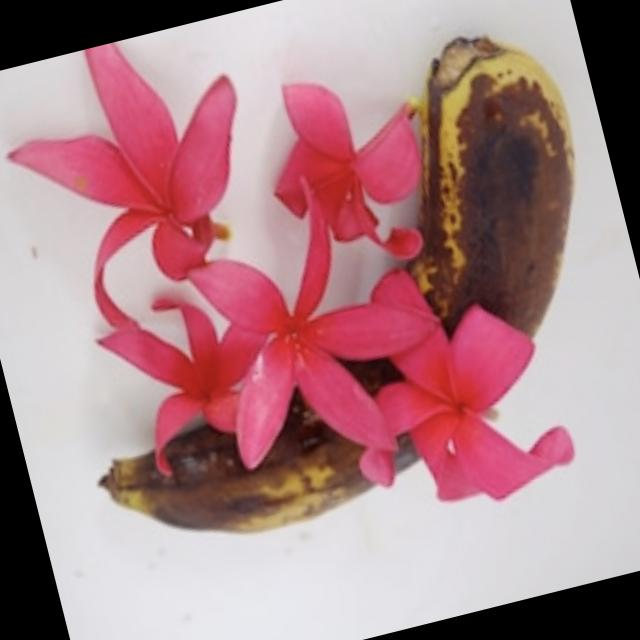rotten-banana: (23, 11, 640, 558)
